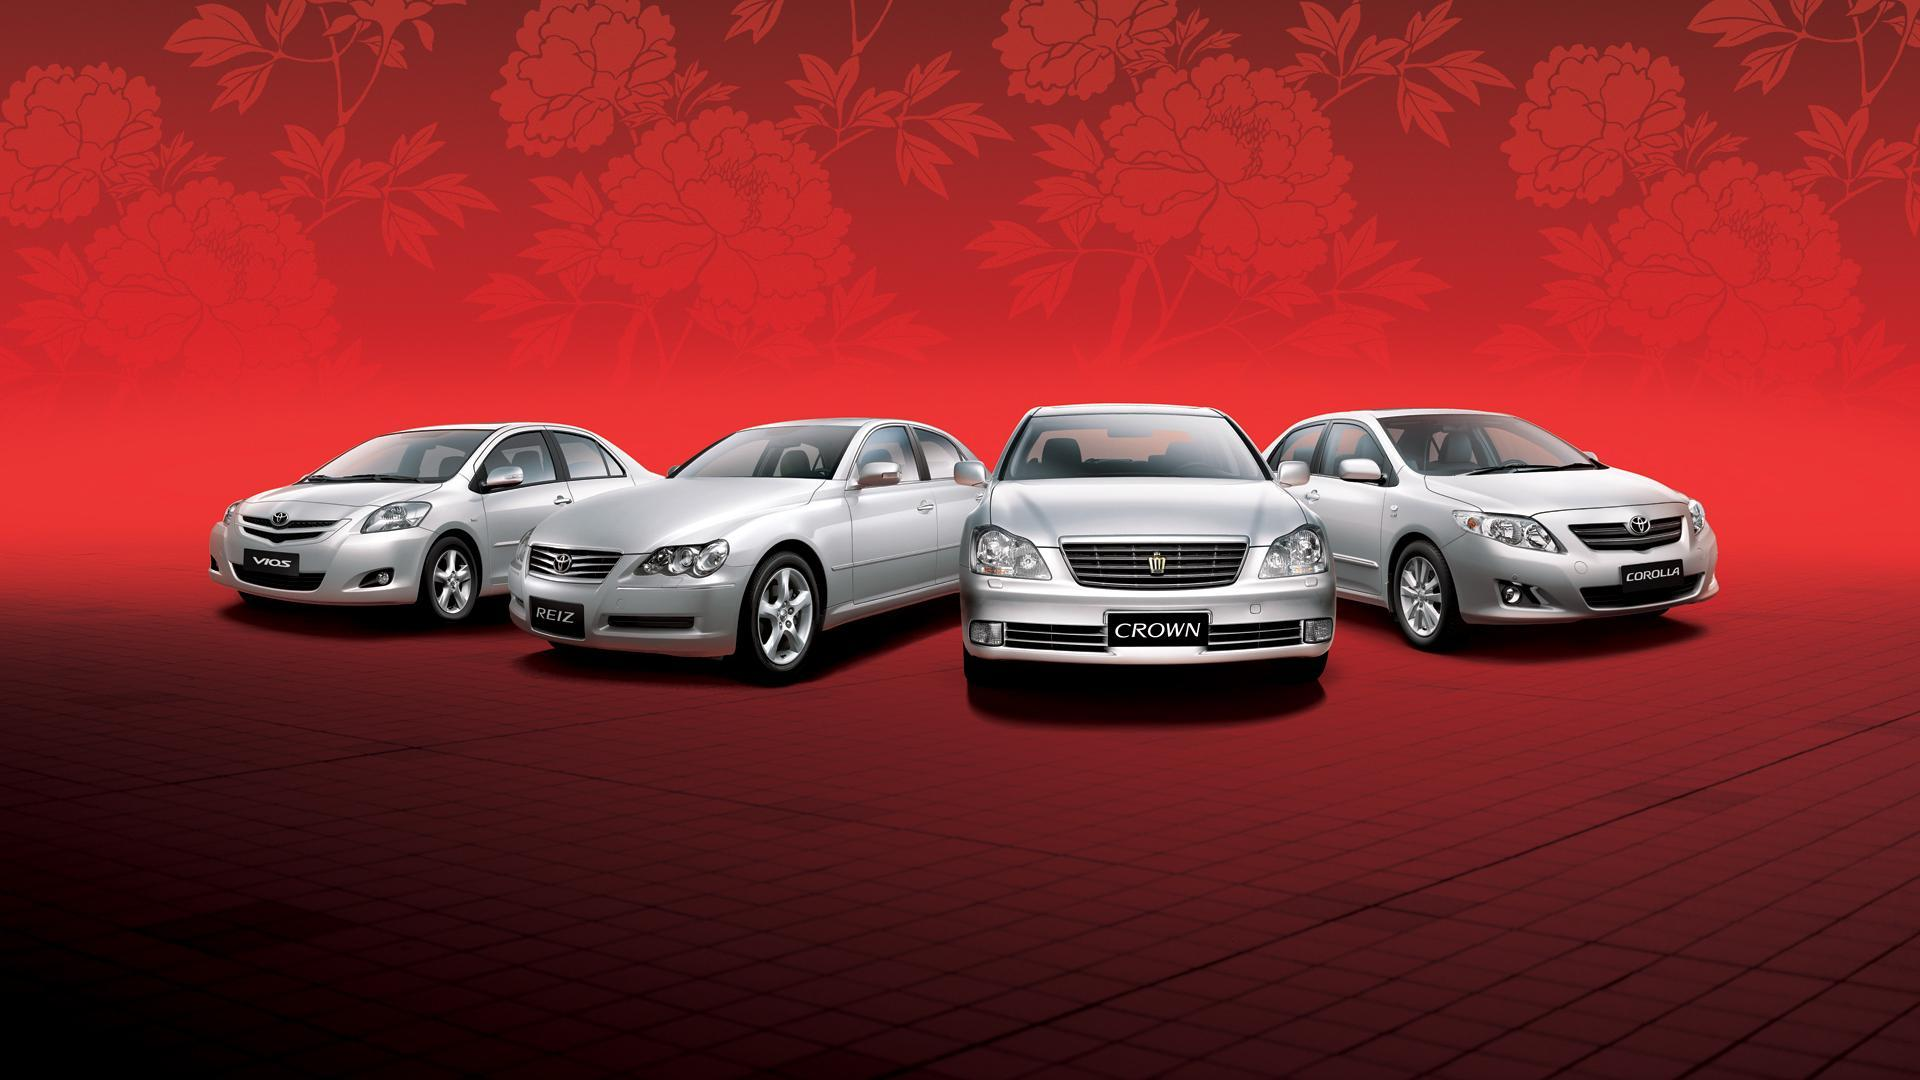windshield: (997, 400, 1287, 487), (1364, 406, 1604, 491), (678, 413, 878, 484), (298, 423, 508, 491)
